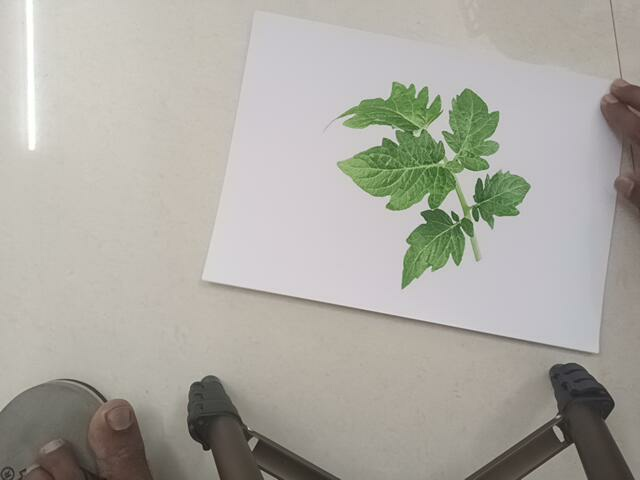Tomamto_Leaf_Healthy: (319, 81, 550, 292)
